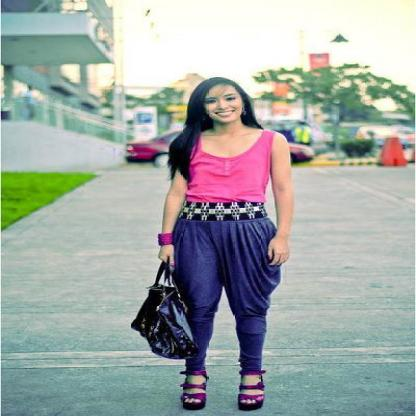bag: (130, 274, 205, 369)
pants: (171, 208, 280, 381)
shirt: (187, 130, 279, 208)
shoe: (180, 364, 262, 410)
